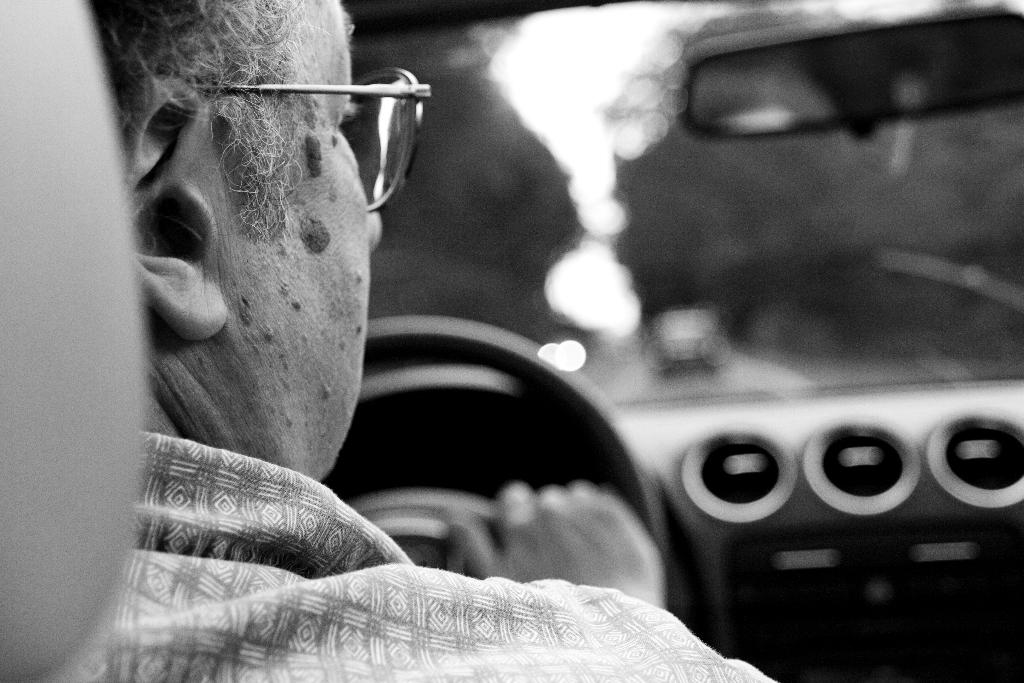Car: (0, 1, 1023, 682)
